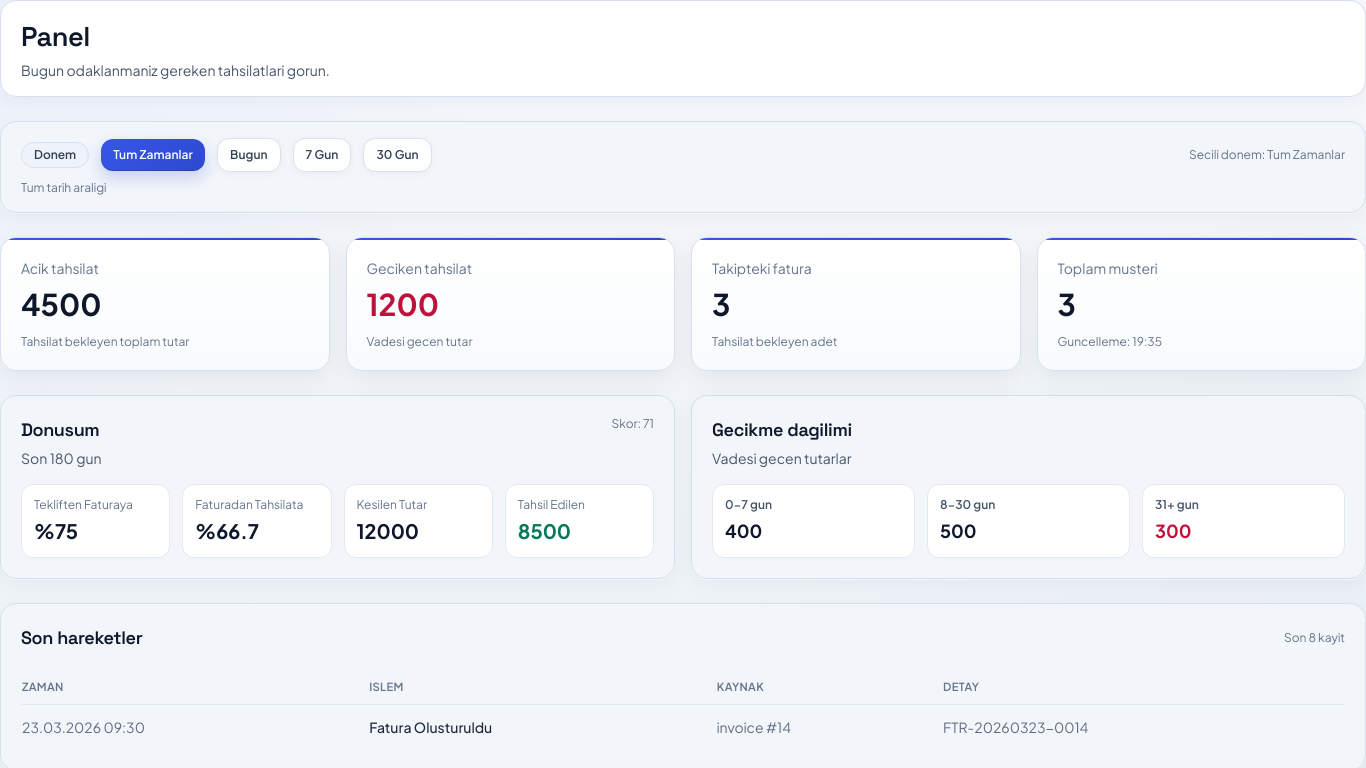
Test: DashboardPage › loads stats and recent activities, then updates by period filter
The width and height of the screenshot is (1366, 768).
Expected: the text "Toplam musteri" is shown, [1058,259,1158,277]
Expected: the heading "Son hareketler" is shown, [21,624,142,652]
Click the button "Bugun": click(249, 155) [217,138,281,172]
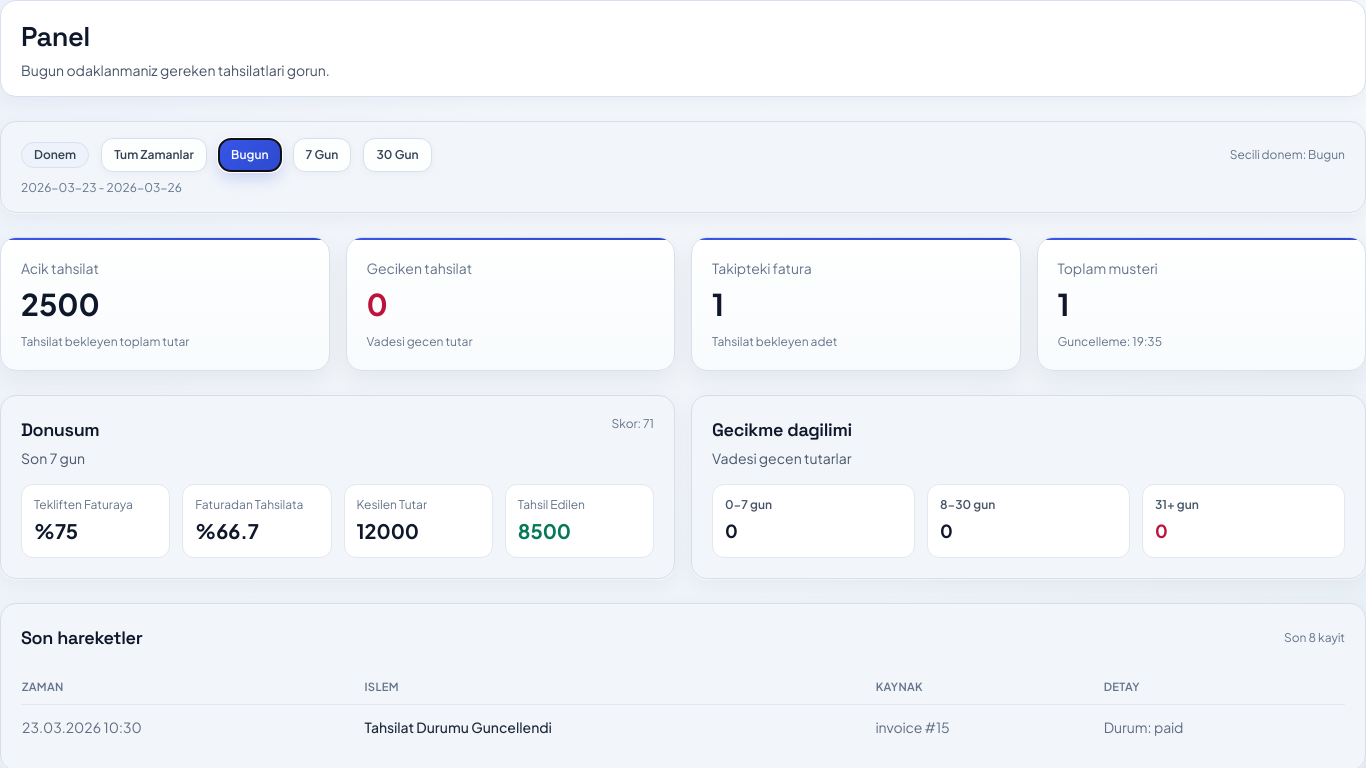
Expected: the text "Tahsilat Durumu Guncellendi" is shown, [364,705,875,750]
